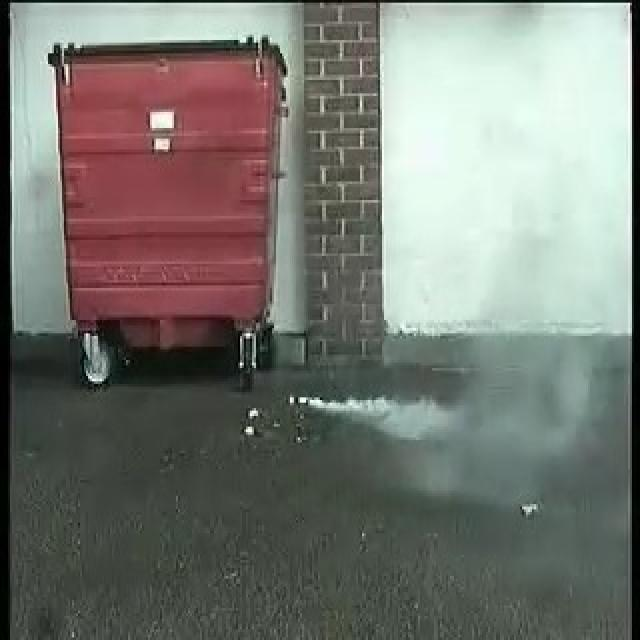Smoke: (292, 326, 434, 440)
